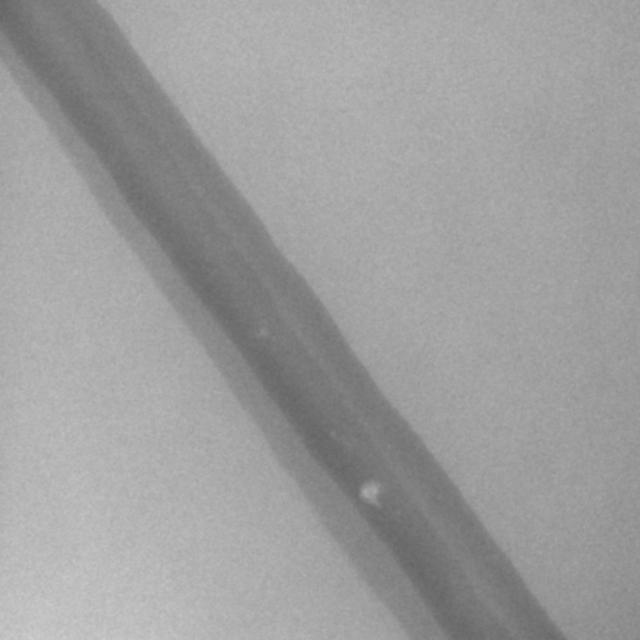slag inclusion: (359, 481, 381, 508)
